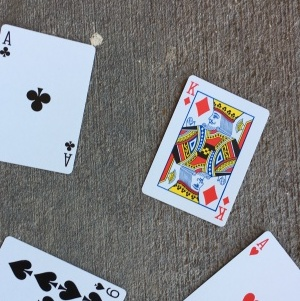card: (140, 73, 271, 228)
